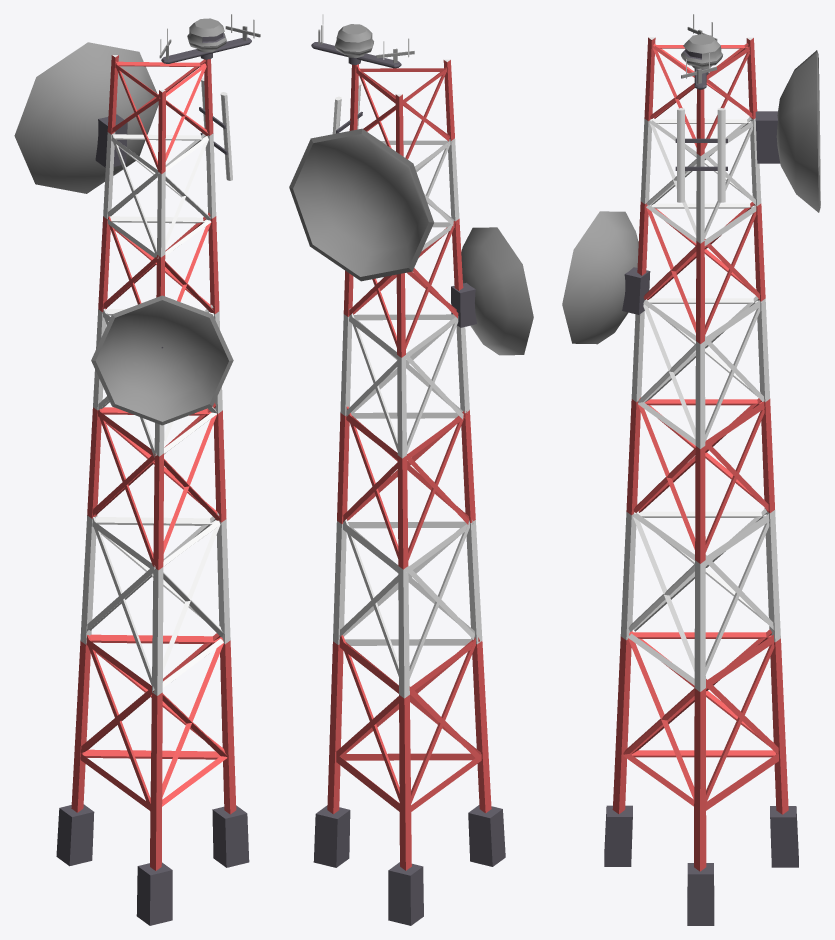
Rendered from radio-tower.glb.
The picture shows the model from 3 angles, left to right: view 1: azimuth 30°, elevation 25°; view 2: azimuth 150°, elevation 25°; view 3: azimuth 270°, elevation 25°; orthographic projection. The views are drawn at different scales.
Visible parts, largest first — view 1: Object_6, Object_7, Object_4, Object_5; view 2: Object_6, Object_7, Object_4, Object_5; view 3: Object_6, Object_4, Object_7, Object_5.
Boxes of the visible parts, x1,y1,x2,y2 form: Object_6: [71, 55, 236, 870]; Object_7: [14, 18, 260, 425]; Object_4: [80, 14, 254, 695]; Object_5: [56, 32, 251, 925]; Object_6: [327, 60, 491, 870]; Object_7: [289, 24, 533, 355]; Object_4: [322, 14, 482, 698]; Object_5: [311, 42, 505, 925]; Object_6: [612, 37, 788, 871]; Object_4: [620, 14, 780, 691]; Object_7: [562, 27, 820, 344]; Object_5: [604, 48, 798, 925].
Bounding box in the file's own units: 8.15 × 34.2 × 9.23.
